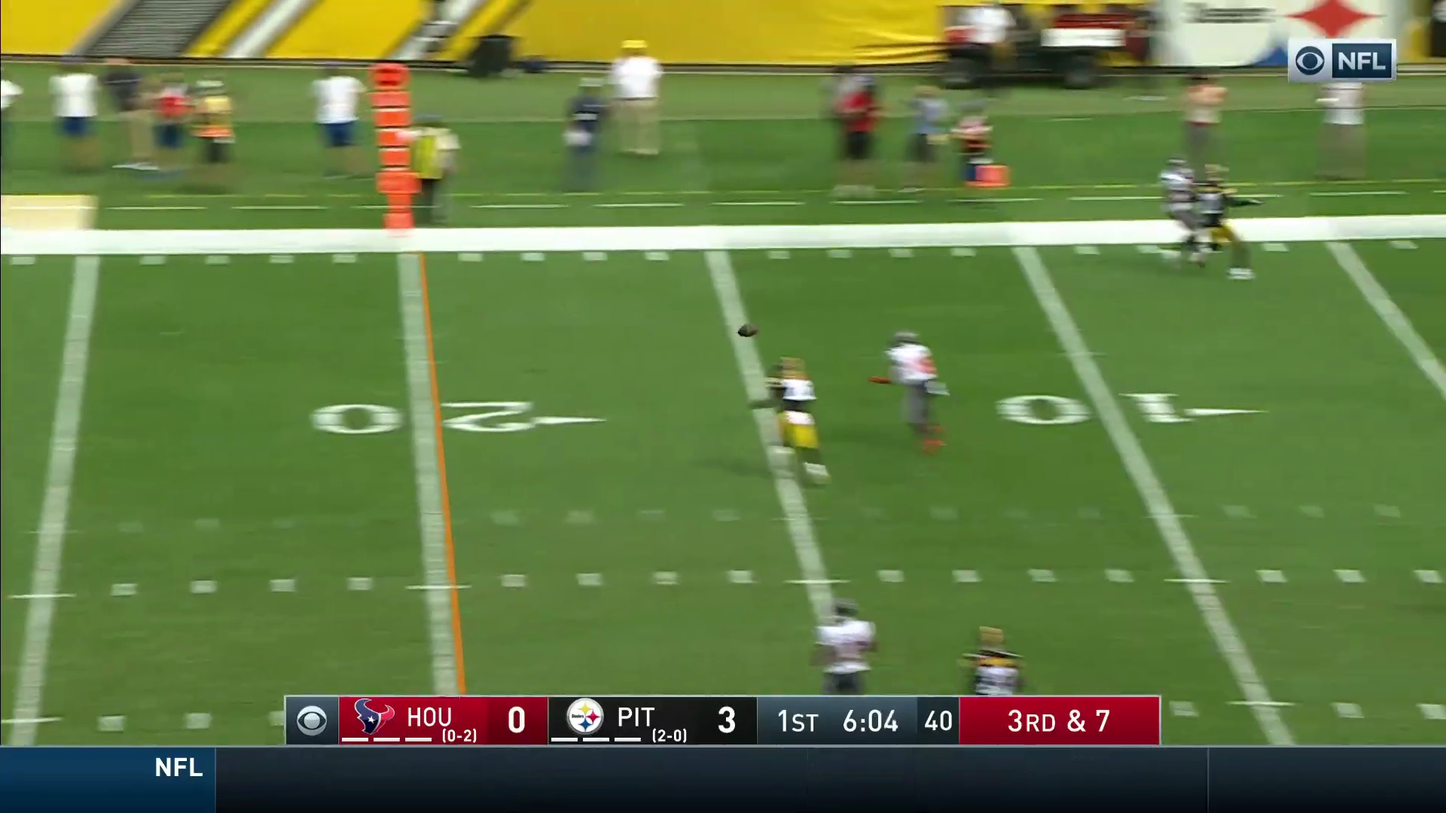Player: (1160, 156, 1235, 256)
